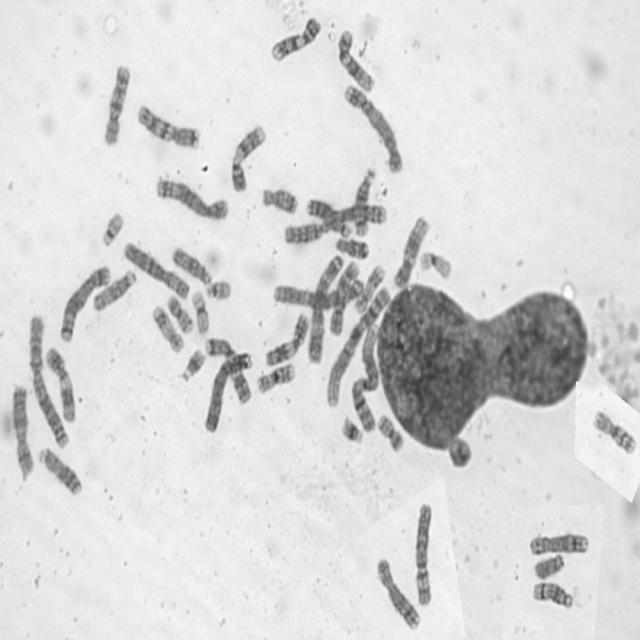A1: (323, 284, 391, 409), (348, 322, 381, 433)
A2: (26, 309, 71, 452), (280, 199, 388, 246)
A3: (304, 250, 345, 365), (269, 275, 365, 310)
B4: (340, 80, 404, 176), (202, 347, 254, 435)
B5: (57, 262, 112, 343), (154, 174, 230, 222)
C10: (326, 258, 361, 338), (101, 60, 132, 148)
C11: (262, 309, 311, 368), (44, 343, 76, 424)
C12: (390, 212, 431, 290), (335, 25, 375, 94)
C6: (122, 238, 192, 301), (411, 499, 435, 608)
C7: (204, 334, 252, 408), (133, 100, 202, 150)
C8: (374, 554, 422, 632), (526, 530, 590, 556)
C9: (227, 121, 268, 194), (267, 12, 324, 62)
D13: (36, 444, 84, 497), (304, 196, 352, 241)
D14: (351, 162, 377, 238), (530, 577, 575, 611)
D15: (90, 265, 138, 313), (170, 243, 213, 287)
E16: (593, 408, 637, 456), (254, 359, 297, 396)
E17: (351, 260, 387, 315), (150, 301, 185, 355)
E18: (258, 182, 300, 216), (332, 233, 370, 261)
F19: (417, 248, 452, 281), (190, 287, 211, 336)
F20: (374, 410, 406, 453), (166, 291, 194, 335)
G21: (178, 345, 206, 384), (338, 412, 364, 446)
G22: (99, 209, 126, 248), (203, 276, 233, 301)
X: (10, 382, 36, 477)
Y: (531, 550, 566, 580)
